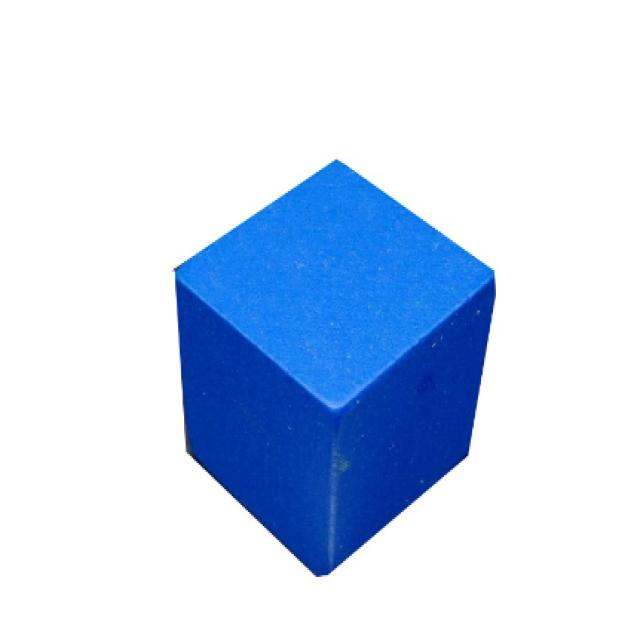bluecube: (174, 160, 496, 579)
